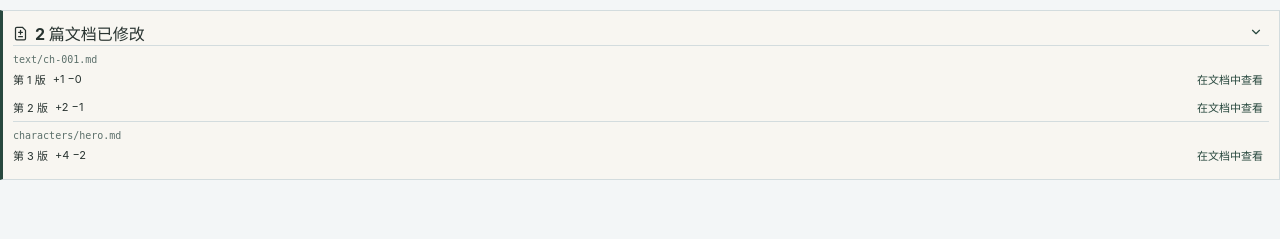
Test: DocumentChangeCard › groups versions by document and expands a bounded section summary
expect the text "2 篇文档已修改" is shown: met, box [35,24,145,44]
expect the text "text/ch-001.md" is shown once: met, box [13,54,97,65]
Click the button named "展开修改摘要". click: click(1256, 33)
box: [1243,22,1269,44]
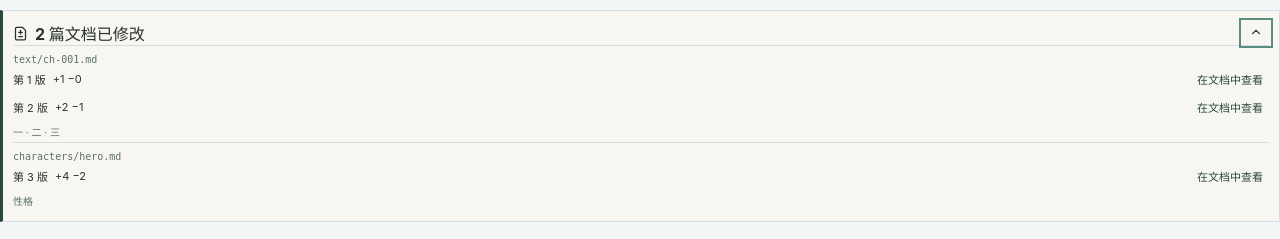
expect the text "一 · 二 · 三" is shown: met, box [13,126,60,138]
